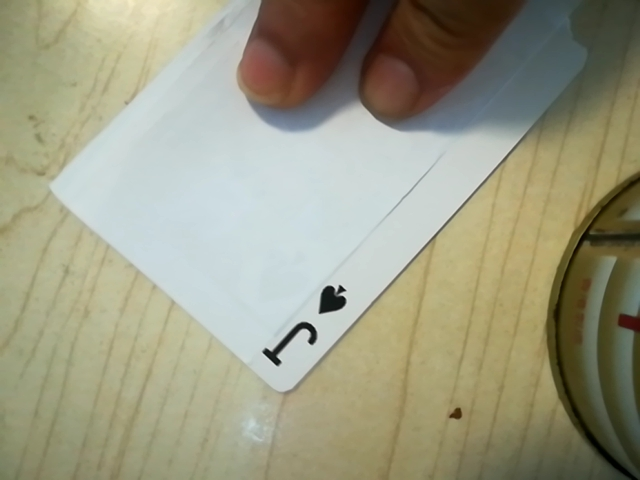ht j: (258, 271, 362, 377)
